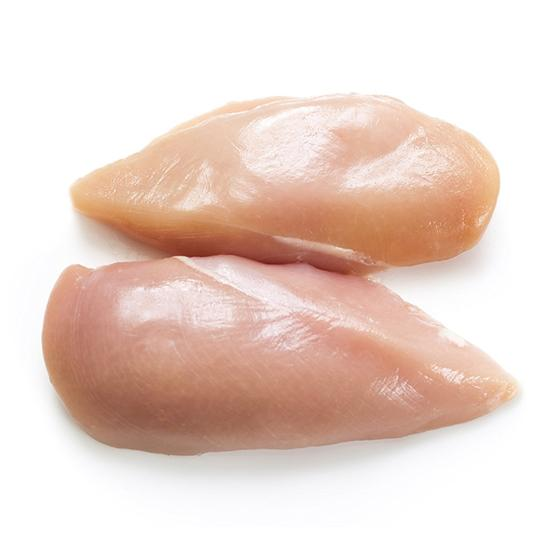chicken_fillet: (50, 255, 521, 458), (72, 93, 503, 270)
